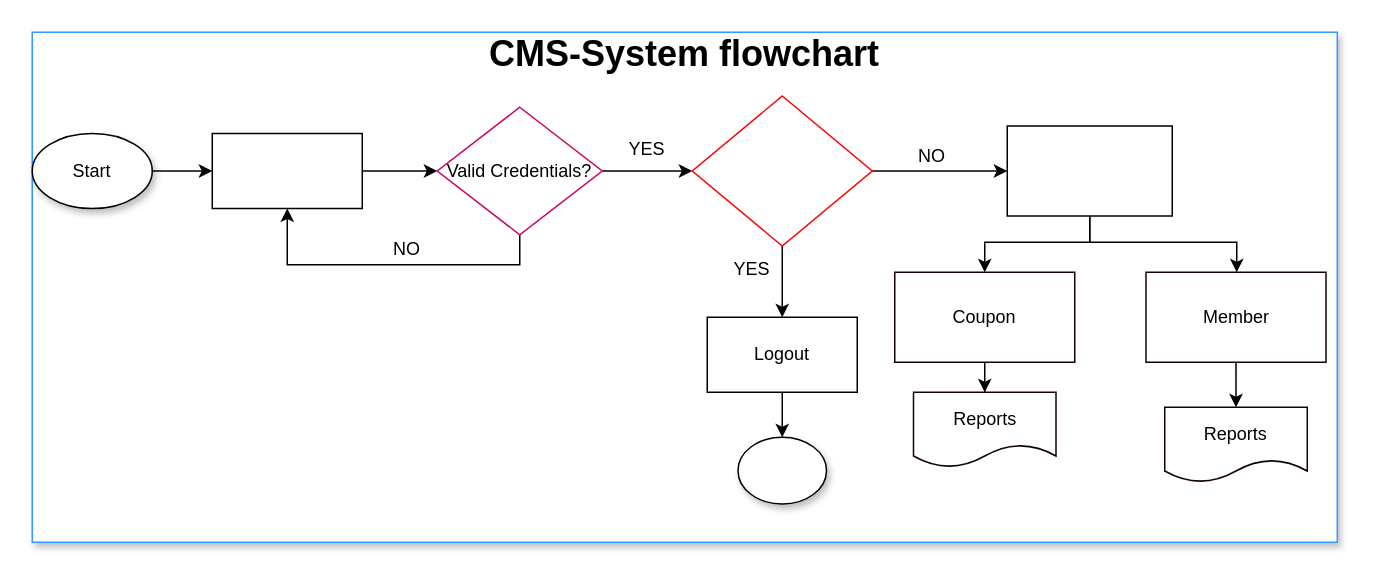
The diagram is 1373 pixels wide and 579 high, and some of its shapes have lost their labels. The shapes that lost their labels are listed below. From the top down, each one's centre as x and y in pixels, then its label:
(286,170): Login
(781,170): IsLogin AtOtherDevices?
(1089,170): Dasoboard
(783,472): Stop
